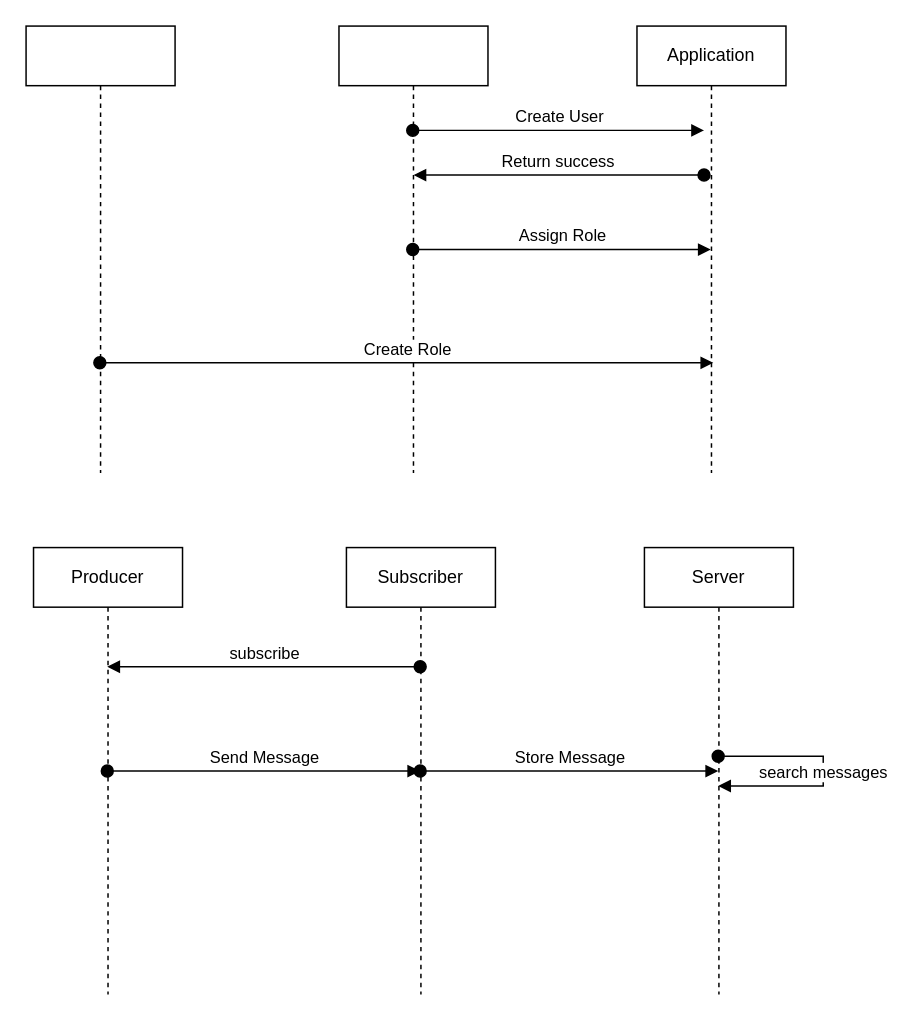
Some shapes in this 912 by 1021 pixel diagram are drawn without their labels. The box of each missing label's shape, as (x1, y1, x2, y2) in pixels:
Admin: (25, 25, 175, 473)
User: (337, 25, 488, 473)
